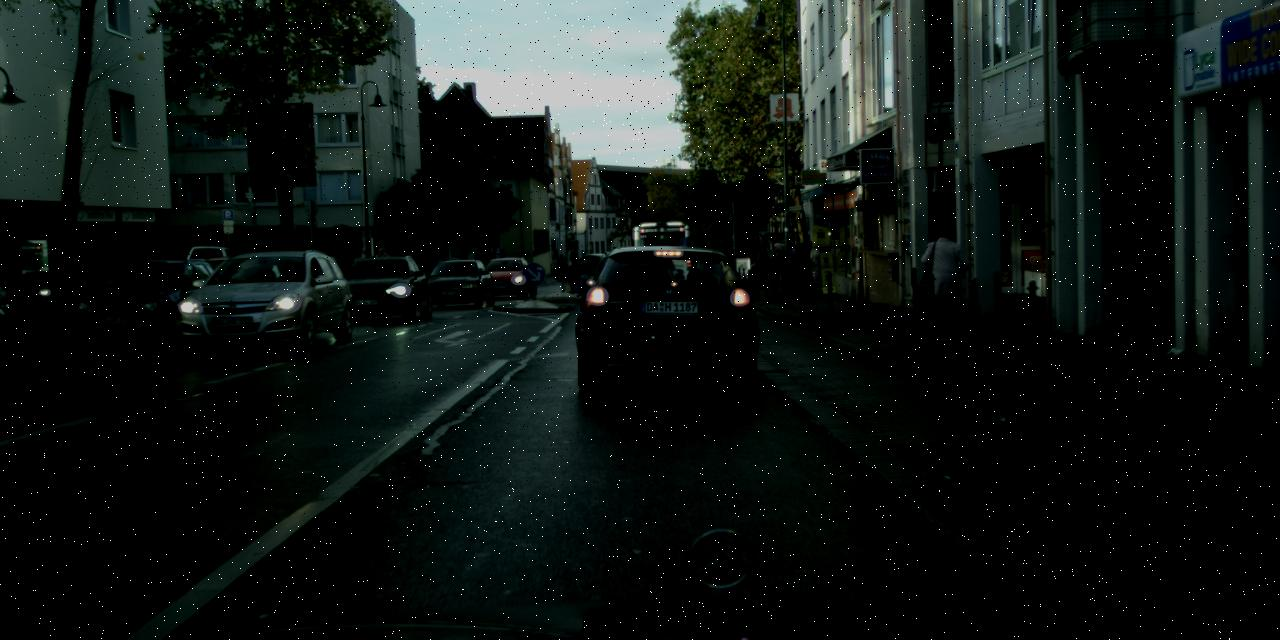ped: (922, 222, 969, 338), (770, 242, 791, 294), (794, 240, 814, 290), (374, 247, 390, 287), (357, 247, 371, 284), (755, 244, 768, 276), (426, 253, 437, 281), (489, 246, 499, 273), (474, 250, 484, 276), (497, 249, 507, 272), (738, 248, 748, 271), (486, 252, 494, 274), (570, 252, 576, 270), (558, 254, 564, 271)
